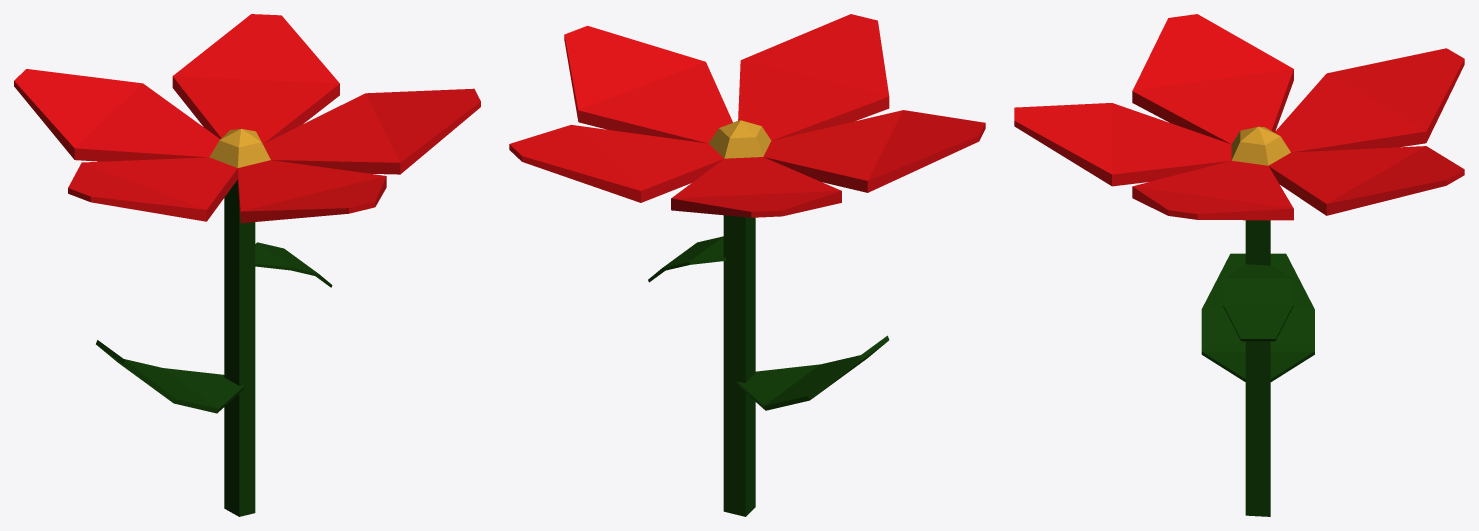
Rendered from flow.glb.
The picture shows the model from 3 angles, left to right: view 1: azimuth 30°, elevation 25°; view 2: azimuth 150°, elevation 25°; view 3: azimuth 270°, elevation 25°; orthographic projection. The views are drawn at different scales.
Visible parts, largest first — view 1: Flower_1; view 2: Flower_1; view 3: Flower_1.
Part boxes in pixels (bbox=[...]): Flower_1: bbox=[14, 14, 480, 516]; Flower_1: bbox=[509, 14, 985, 516]; Flower_1: bbox=[1014, 14, 1464, 516].
Size of the model in its own units: 0.712 by 0.6595 by 0.6771.
